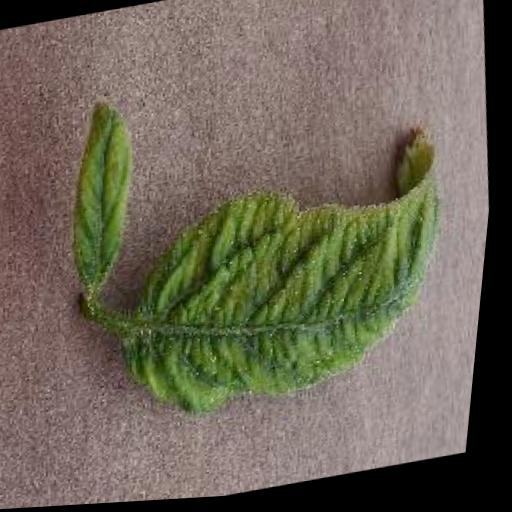Yellow Leaf Curl Virus: (100, 128, 468, 430), (56, 94, 158, 298)
